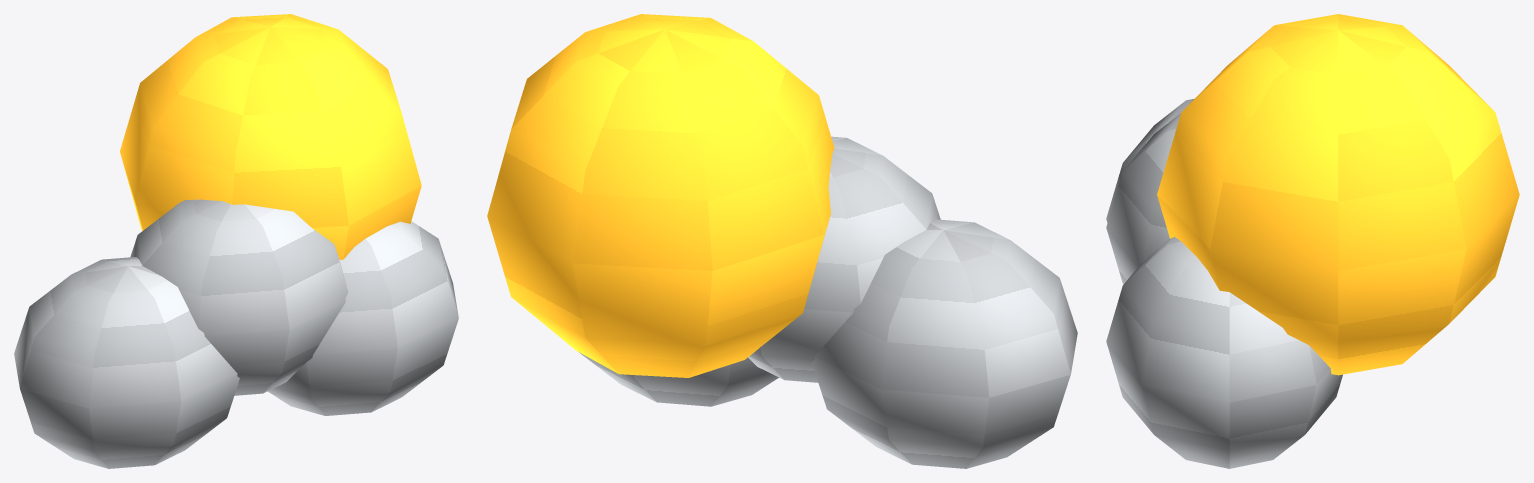
The model's file is nube.glb.
3 views of the same model, side by side, from view 1: azimuth 30°, elevation 25°; view 2: azimuth 150°, elevation 25°; view 3: azimuth 270°, elevation 25° (orthographic). The views are drawn at different scales.
Visible parts, largest first — view 1: nube; view 2: nube; view 3: nube.
Boxes of the visible parts, left/top/right/bottom form: nube: left=14, top=14, right=458, bottom=468; nube: left=487, top=14, right=1077, bottom=468; nube: left=1106, top=14, right=1519, bottom=468.
Bounding box in the file's own units: 0.8 × 0.62 × 0.57.
Materials: 2 (2 with a texture image).
